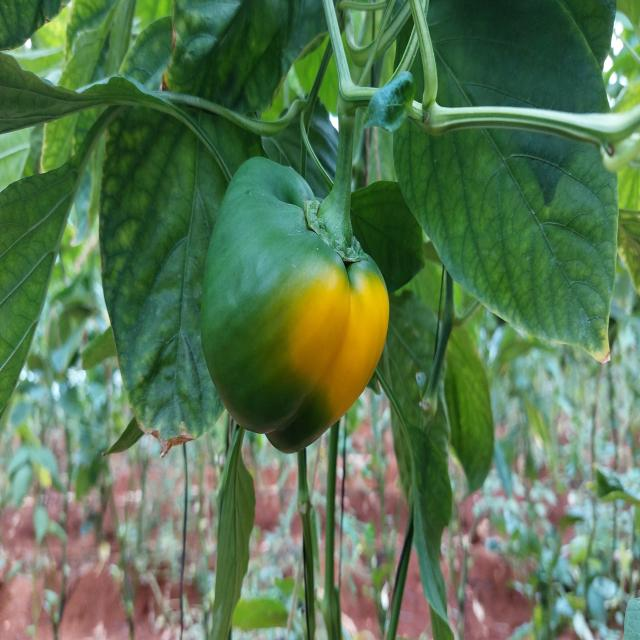GreenishYellow--Can-be-Harvested: (194, 140, 408, 460)
